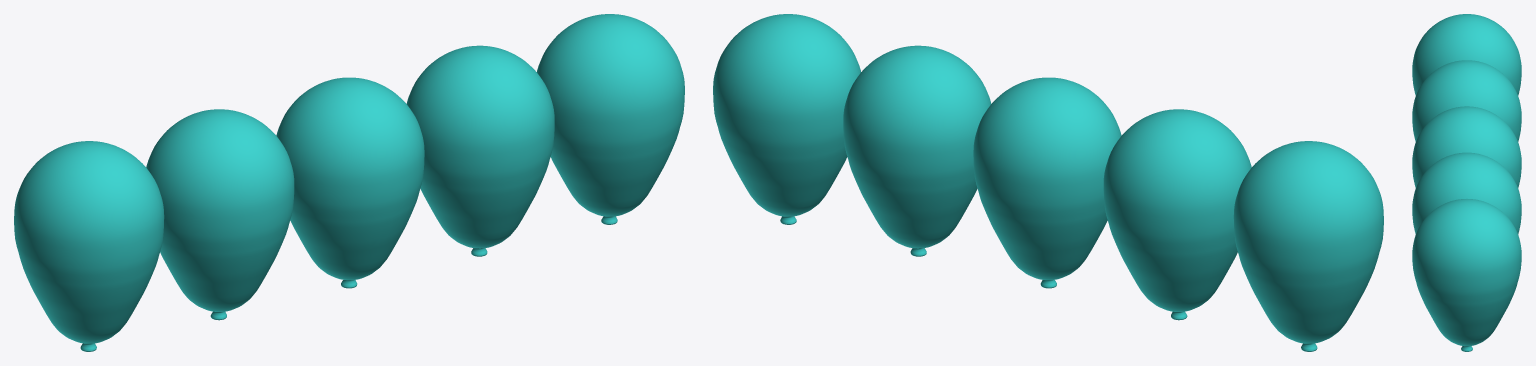
The model's file is balloon-platform.glb.
The picture shows the model from 3 angles, left to right: view 1: azimuth 30°, elevation 25°; view 2: azimuth 150°, elevation 25°; view 3: azimuth 270°, elevation 25°; orthographic projection. The views are drawn at different scales.
Visible parts, largest first — view 1: Balloon_ballon_0.006; view 2: Balloon_ballon_0.006; view 3: Balloon_ballon_0.006.
Part boxes in pixels (x1=…): Balloon_ballon_0.006: x1=14, y1=14, x2=684, y2=351; Balloon_ballon_0.006: x1=713, y1=14, x2=1383, y2=351; Balloon_ballon_0.006: x1=1412, y1=14, x2=1521, y2=351.
Bounding box in the file's own units: 0.5001 × 0.148 × 0.1001.
